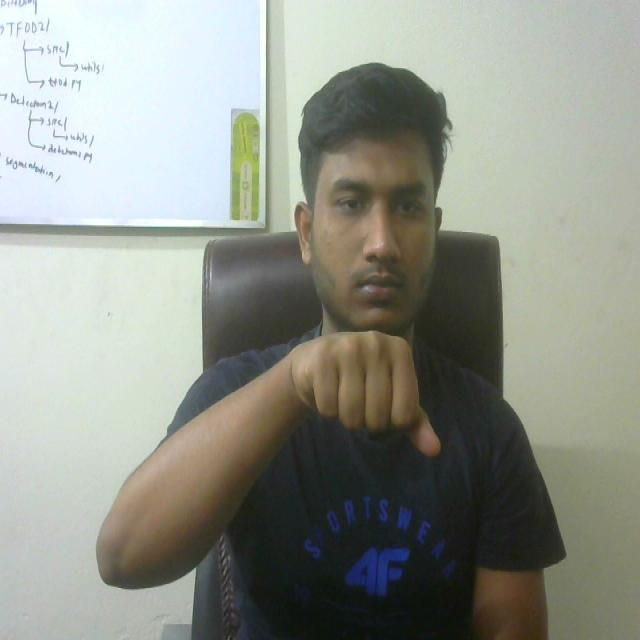Yes: (270, 315, 452, 476)
